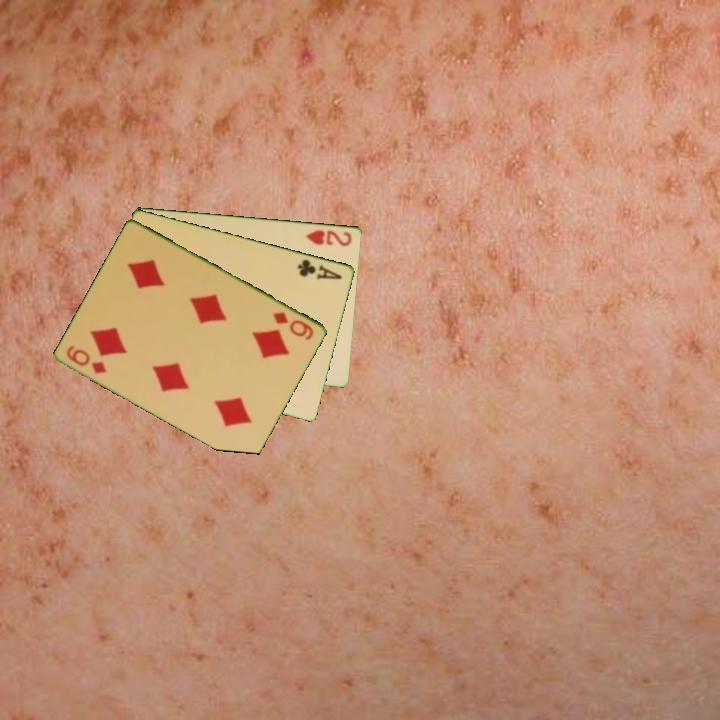2h: (303, 226, 355, 249)
6d: (270, 308, 317, 343), (63, 342, 110, 376)
Ac: (294, 255, 346, 282)
